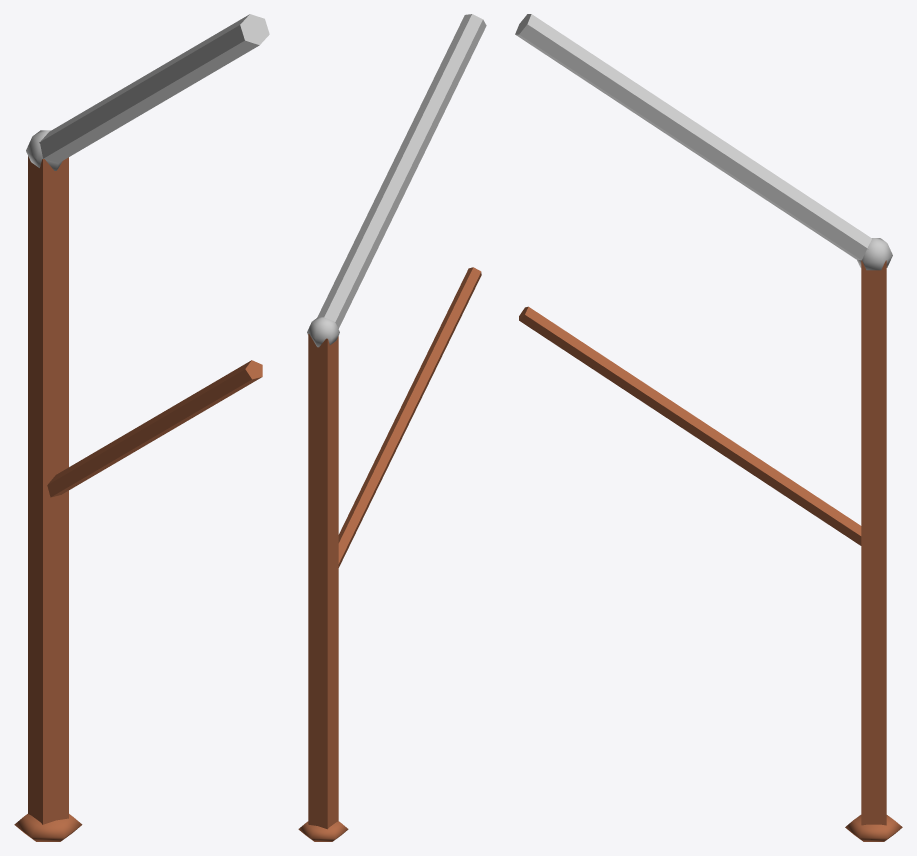
The model's file is s_stair_post.glb.
The picture shows the model from 3 angles, left to right: view 1: azimuth 30°, elevation 25°; view 2: azimuth 150°, elevation 25°; view 3: azimuth 270°, elevation 25°; orthographic projection. The views are drawn at different scales.
Visible parts, largest first — view 1: s_stair_post_mesh; view 2: s_stair_post_mesh; view 3: s_stair_post_mesh.
Part boxes in pixels (left/top/right/bottom): s_stair_post_mesh: left=14, top=14, right=269, bottom=841; s_stair_post_mesh: left=298, top=14, right=486, bottom=841; s_stair_post_mesh: left=515, top=14, right=902, bottom=841.
Size of what is drawn, in the model's own units: 0.0788 by 1.43 by 0.6084.
2 materials, 2 textured.
